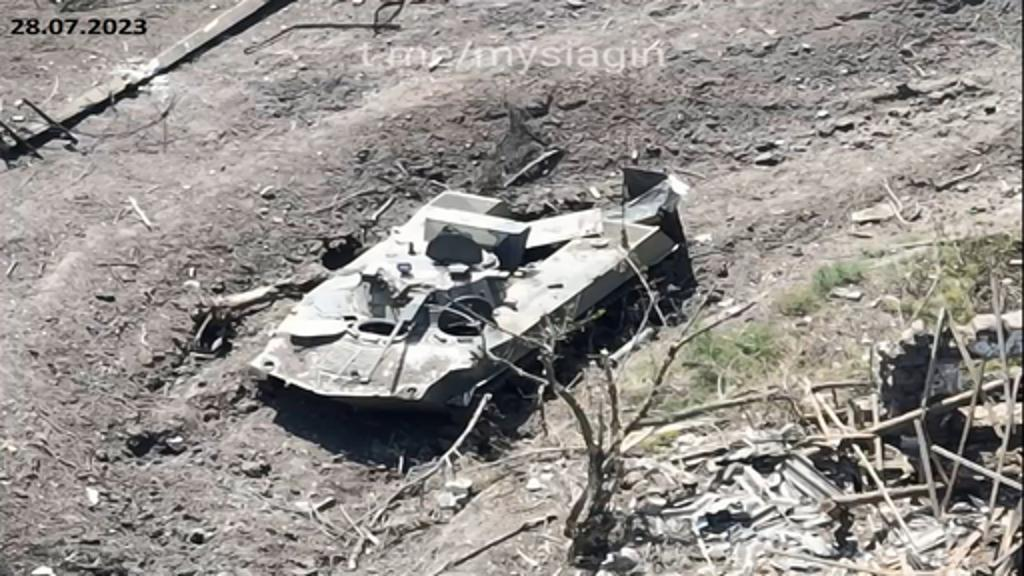APC-IFV: (248, 154, 692, 444)
